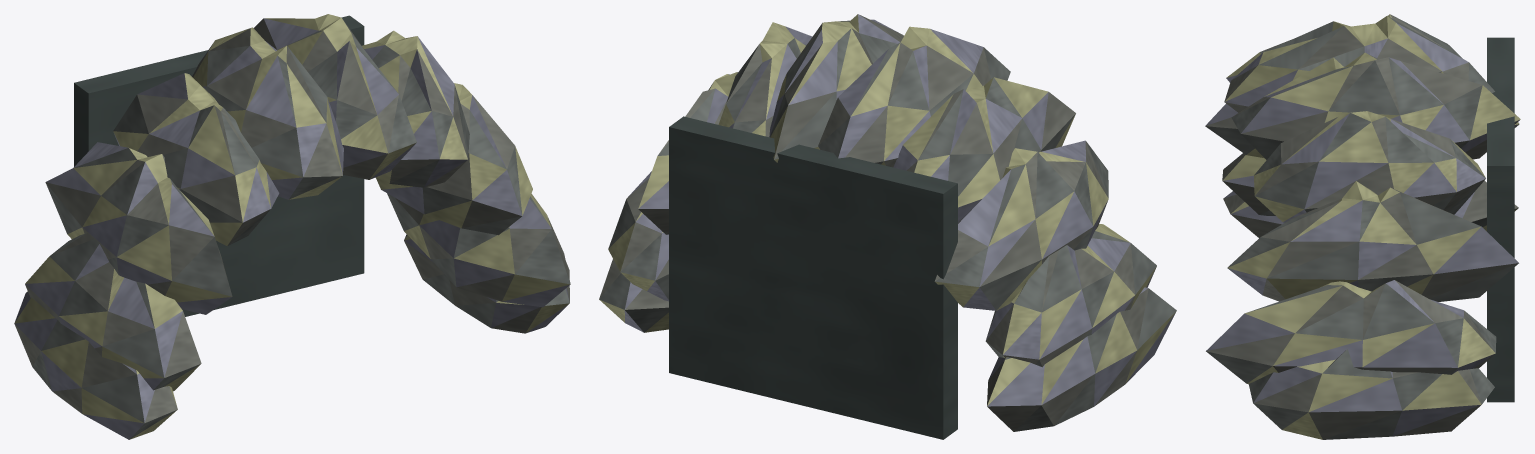
The model's file is cave_entrance_02.fbx.
3 renders of one model, left to right at view 1: azimuth 30°, elevation 25°; view 2: azimuth 150°, elevation 25°; view 3: azimuth 270°, elevation 25°, orthographic. The views are drawn at different scales.
Parts seen in each view (by area): view 1: cave_entrance_02; view 2: cave_entrance_02; view 3: cave_entrance_02.
Boxes of the visible parts, x1,y1,x2,y2 form: cave_entrance_02: (14,14,570,439); cave_entrance_02: (599,14,1176,439); cave_entrance_02: (1205,14,1520,439).
Bounding box in the file's own units: 672 × 432 × 400.
1 material, 1 textured.
